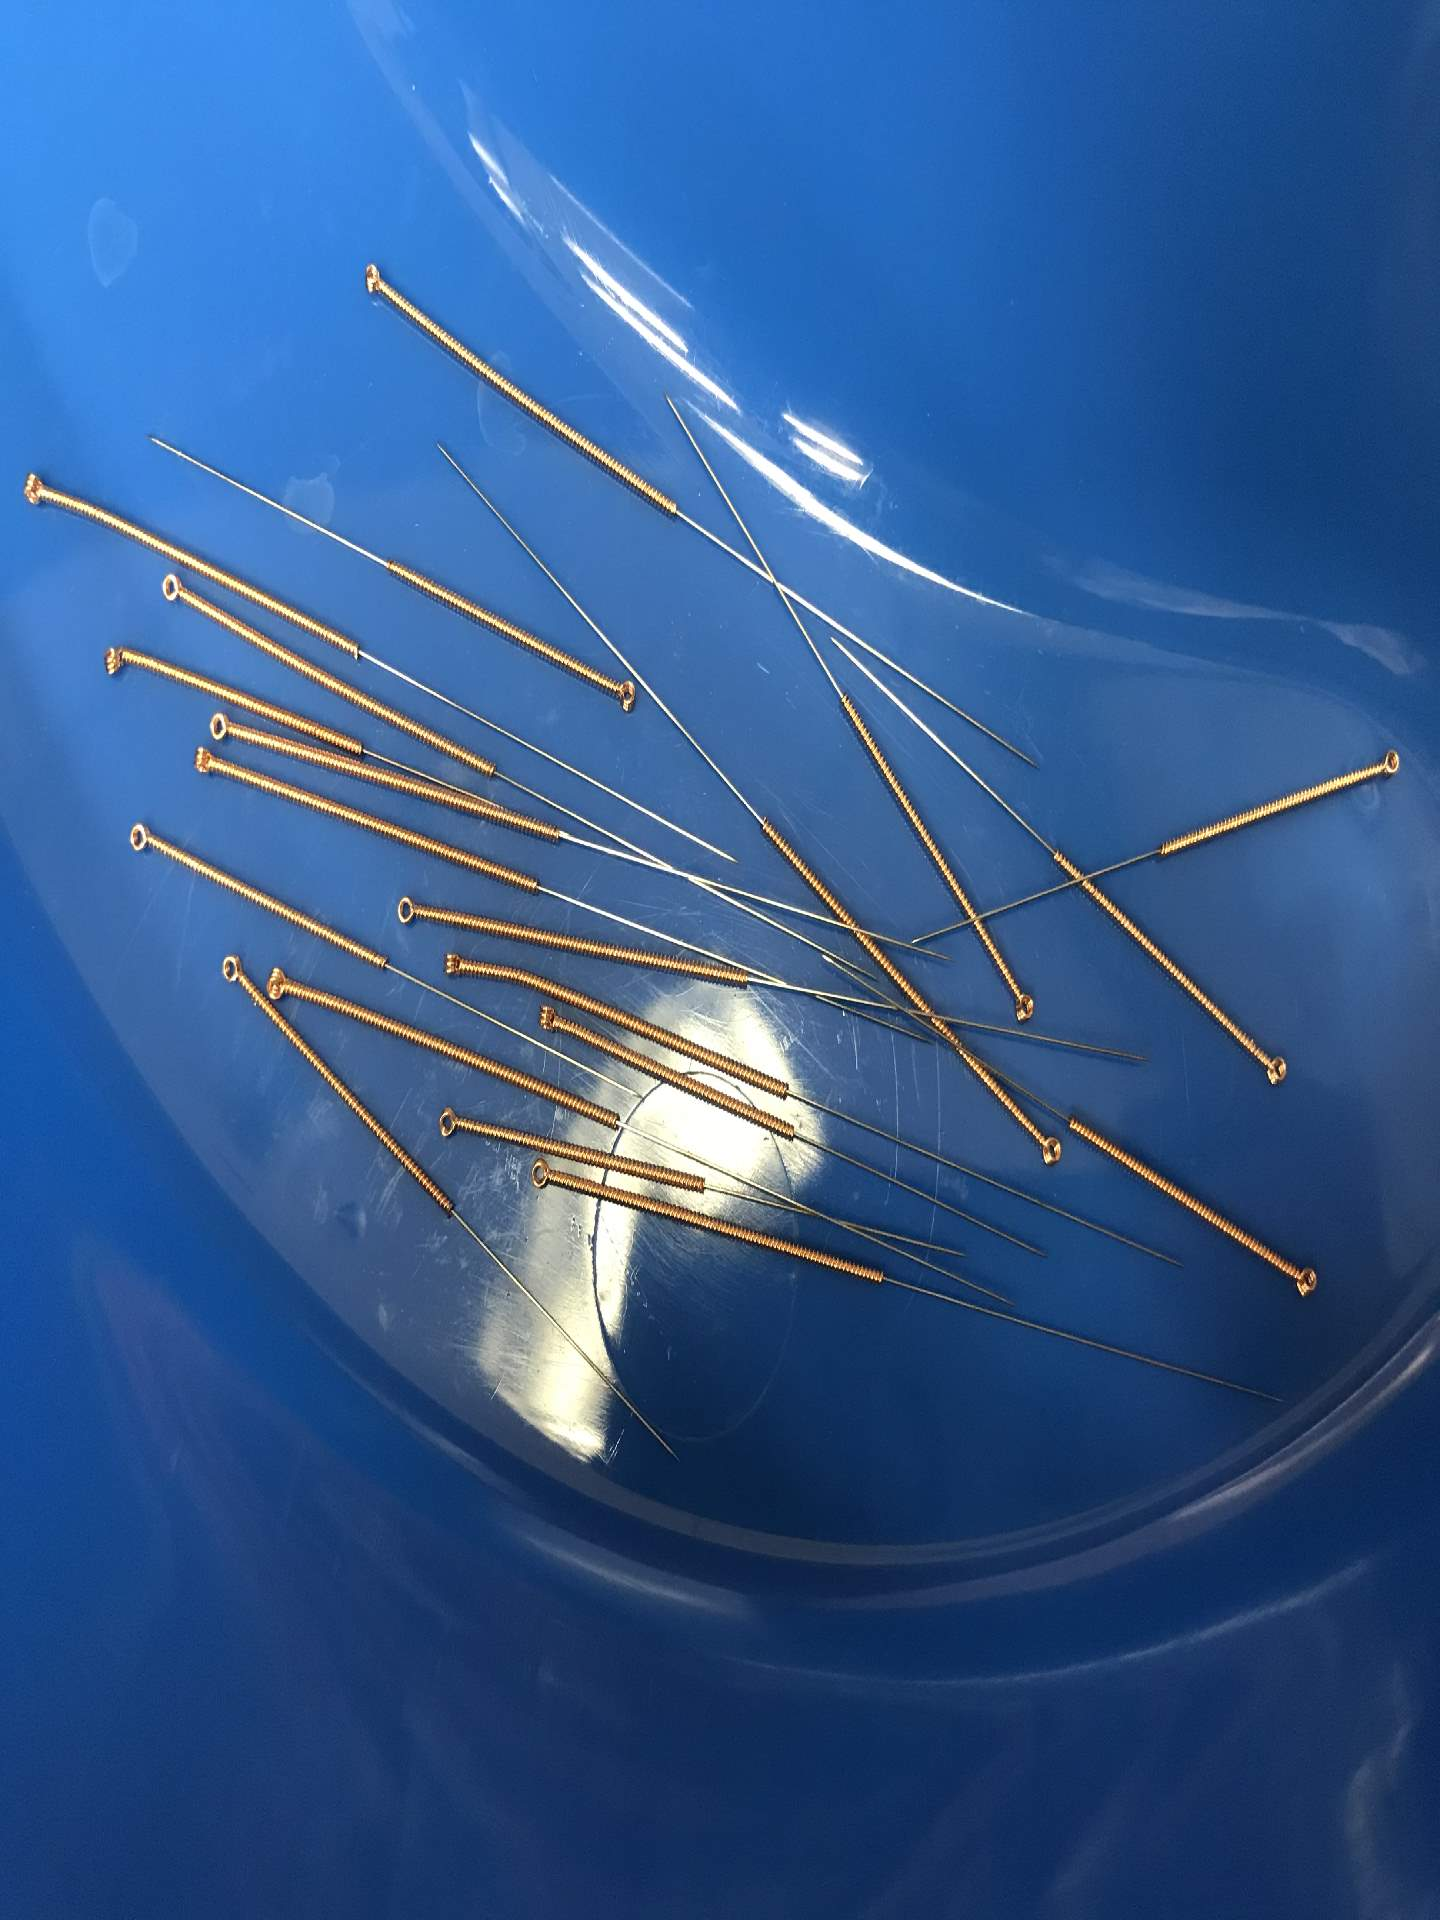needle: (1252, 1039, 1299, 1095), (14, 461, 59, 519), (1026, 1119, 1071, 1175), (150, 562, 197, 615), (1283, 1253, 1327, 1308), (1003, 977, 1045, 1033), (599, 671, 646, 718), (1364, 739, 1410, 788), (119, 812, 163, 862), (526, 996, 572, 1043), (517, 1154, 566, 1197), (265, 960, 309, 1005), (436, 943, 479, 989), (386, 887, 433, 930), (430, 1098, 470, 1146), (92, 638, 135, 683), (212, 945, 251, 993), (352, 255, 392, 302), (198, 705, 241, 745), (186, 742, 228, 782)
